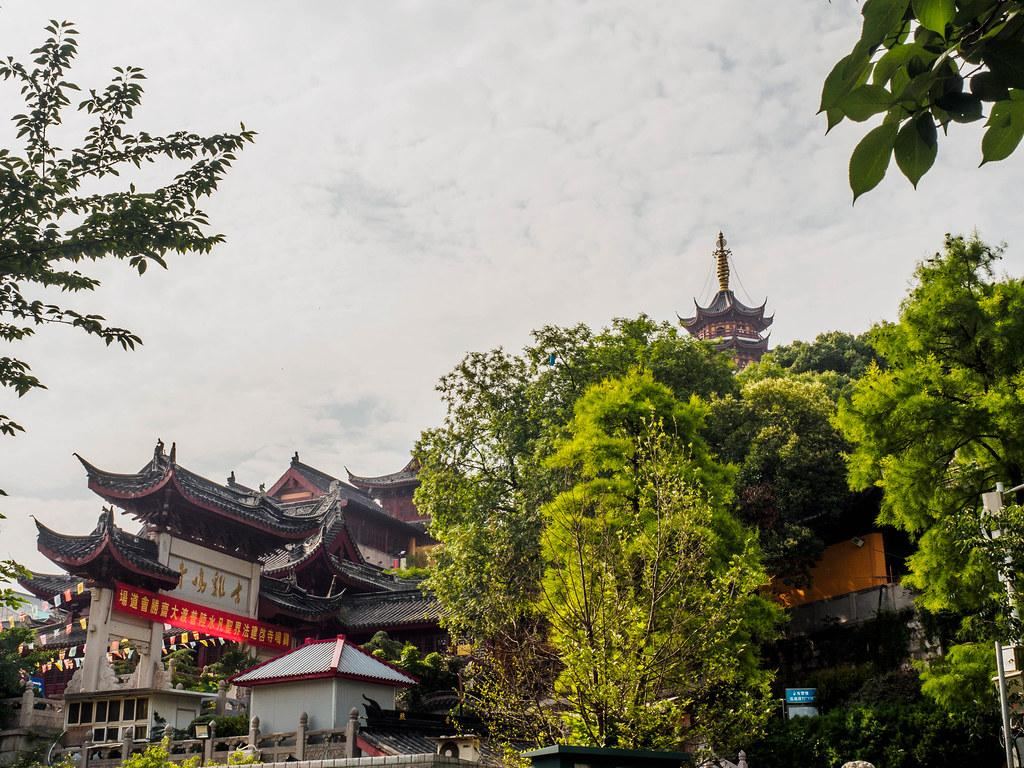temple: (6, 437, 486, 766), (675, 230, 776, 373)
